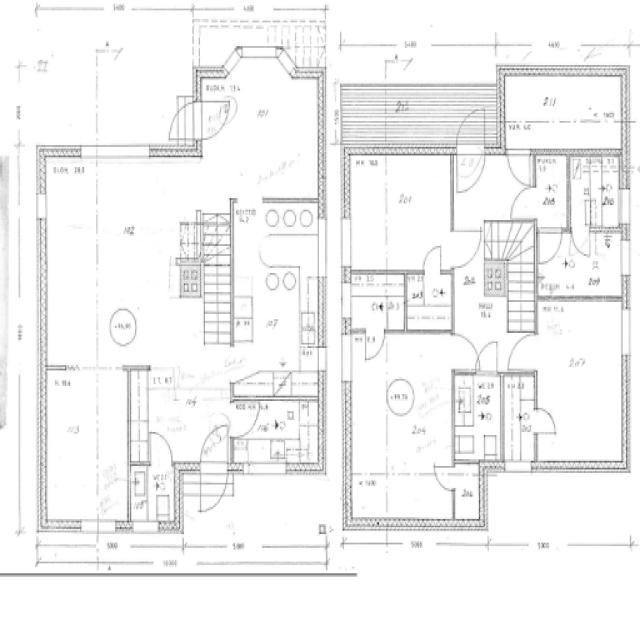door: (194, 101, 232, 140), (165, 101, 202, 140), (200, 462, 227, 510), (200, 425, 227, 473), (456, 148, 484, 193), (456, 110, 484, 154), (450, 230, 481, 266), (449, 334, 478, 366), (230, 403, 258, 436), (474, 338, 497, 378), (538, 227, 562, 265), (508, 336, 535, 368), (509, 186, 535, 218), (507, 150, 529, 185), (150, 433, 171, 468), (364, 328, 384, 361), (421, 243, 440, 276), (532, 408, 554, 434), (432, 466, 454, 491), (572, 227, 588, 256)
